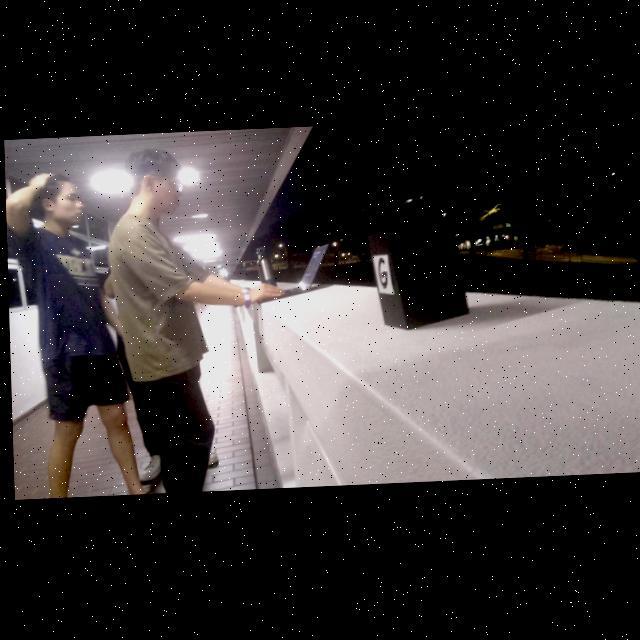G: (377, 262, 386, 291)
